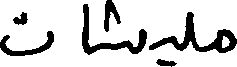ا: (80, 2, 89, 55)
ت: (0, 9, 53, 56)
ش: (102, 0, 145, 55)
ل: (183, 9, 192, 49)
م: (215, 27, 236, 53)
ي: (156, 34, 173, 66)
